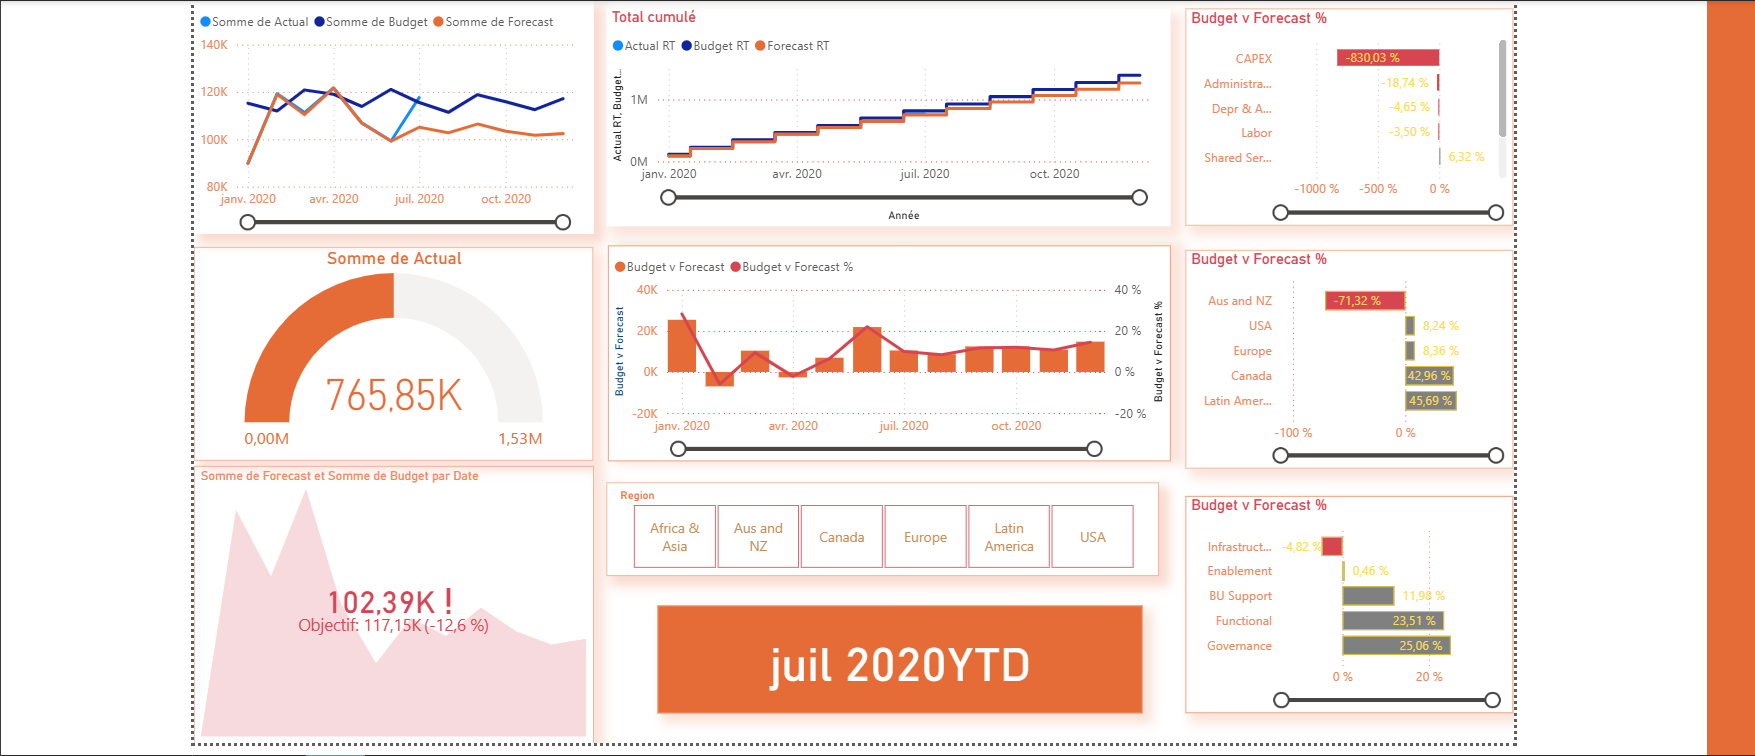

This screenshot's page, from the dashboard's own definition file:
{"tool":"powerbi","page":{"name":"Page 1","canvas":[1280,720],"ordinal":0},"visuals":[{"type":"textbox","box":[10,0,280,280],"z":0},{"type":"kpi","fields":{"TrendLine":["Calendar.Date"],"Indicator":["Sum(Forecast.Forecast)"],"Goal":["Sum(Budget.Budget)"]},"box":[0,451.5,387.9,269.7],"z":1000},{"type":"gauge","fields":{"Y":["Sum(Actuals.Actual)"]},"box":[0,239.2,387.6,207.4],"z":2000},{"type":"lineChart","fields":{"Y":["Sum(Actuals.Actual)","Sum(Budget.Budget)","Sum(Forecast.Forecast)"],"Category":["Calendar.Date.Variation.Hiérarchie de dates.Année","Calendar.Date.Variation.Hiérarchie de dates.Trimestre","Calendar.Date.Variation.Hiérarchie de dates.Mois","Calendar.Date.Variation.Hiérarchie de dates.Jour"]},"box":[0,0,387.9,225.8],"z":3000},{"type":"areaChart","title":"Total cumulé","fields":{"Y":["Actuals.Actual RT","Budget.Budget RT","Forecast.Forecast RT"],"Category":["Calendar.Date.Variation.Hiérarchie de dates.Année","Calendar.Date.Variation.Hiérarchie de dates.Trimestre","Calendar.Date.Variation.Hiérarchie de dates.Mois","Calendar.Date.Variation.Hiérarchie de dates.Jour"]},"box":[400.3,7.3,547.3,211.1],"z":4000},{"type":"lineStackedColumnComboChart","fields":{"Category":["Calendar.Date"],"Y":["Budget.Budget v Forecast"],"Y2":["Actuals.Budget v Forecast %"]},"box":[401.7,237.3,545.8,209.6],"z":5000},{"type":"clusteredBarChart","title":"Budget v Forecast % ","fields":{"Category":["Regions.Region"],"Y":["Actuals.Budget v Forecast %"]},"box":[961.5,242.3,318,212],"z":6000},{"type":"clusteredBarChart","title":"Budget v Forecast % ","fields":{"Category":["CostElements.Cost Element Group"],"Y":["Actuals.Budget v Forecast %"]},"box":[961.5,7.6,318,210.5],"z":7000},{"type":"clusteredBarChart","title":"Budget v Forecast % ","fields":{"Category":["Departments.IT Area"],"Y":["Actuals.Budget v Forecast %"]},"box":[961.5,480,318,210.5],"z":8000},{"type":"slicer","fields":{"Values":["Regions.Region"]},"box":[399.8,467.9,536,90.9],"z":9000},{"type":"card","fields":{"Values":["Actuals.YTD Month"]},"box":[449.7,586,470.9,104.5],"z":10000}]}

Visuals, with their boxes in screenshot pixels (x1, y1, x2, y2):
textbox: {"left": 198, "top": 0, "right": 487, "bottom": 280}
kpi - Calendar.Date x Sum(Forecast.Forecast): {"left": 187, "top": 457, "right": 588, "bottom": 736}
gauge - Sum(Actuals.Actual): {"left": 187, "top": 238, "right": 588, "bottom": 452}
lineChart - Sum(Actuals.Actual) x Sum(Budget.Budget): {"left": 187, "top": 0, "right": 588, "bottom": 224}
"Total cumulé" areaChart: {"left": 601, "top": 0, "right": 1166, "bottom": 216}
lineStackedColumnComboChart - Calendar.Date x Budget.Budget v Forecast: {"left": 602, "top": 236, "right": 1166, "bottom": 452}
"Budget v Forecast % " clusteredBarChart: {"left": 1180, "top": 241, "right": 1509, "bottom": 460}
"Budget v Forecast % " clusteredBarChart: {"left": 1180, "top": 0, "right": 1509, "bottom": 216}
"Budget v Forecast % " clusteredBarChart: {"left": 1180, "top": 487, "right": 1509, "bottom": 704}
slicer - Regions.Region: {"left": 600, "top": 474, "right": 1154, "bottom": 568}
card - Actuals.YTD Month: {"left": 652, "top": 596, "right": 1138, "bottom": 704}
